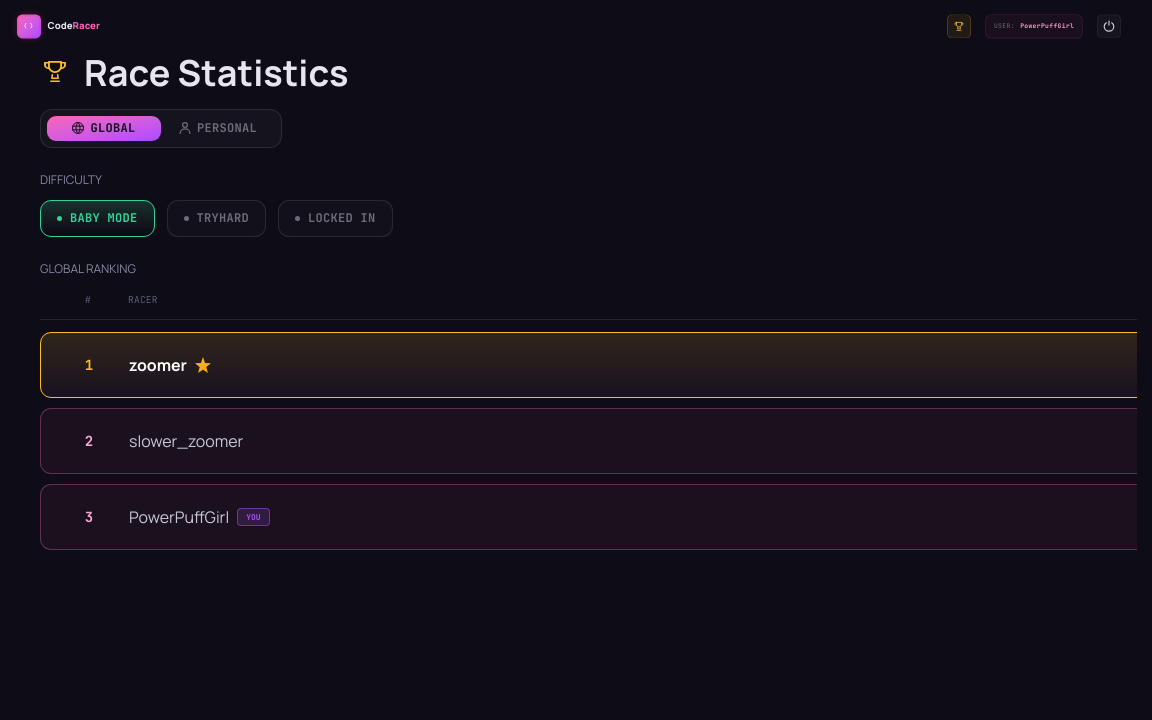
Test: StatisticsPage › shows an error with a retry that refetches history
The width and height of the screenshot is (1152, 720).
Click the tab "PERSONAL": {"x": 218, "y": 128} [161,119,275,137]
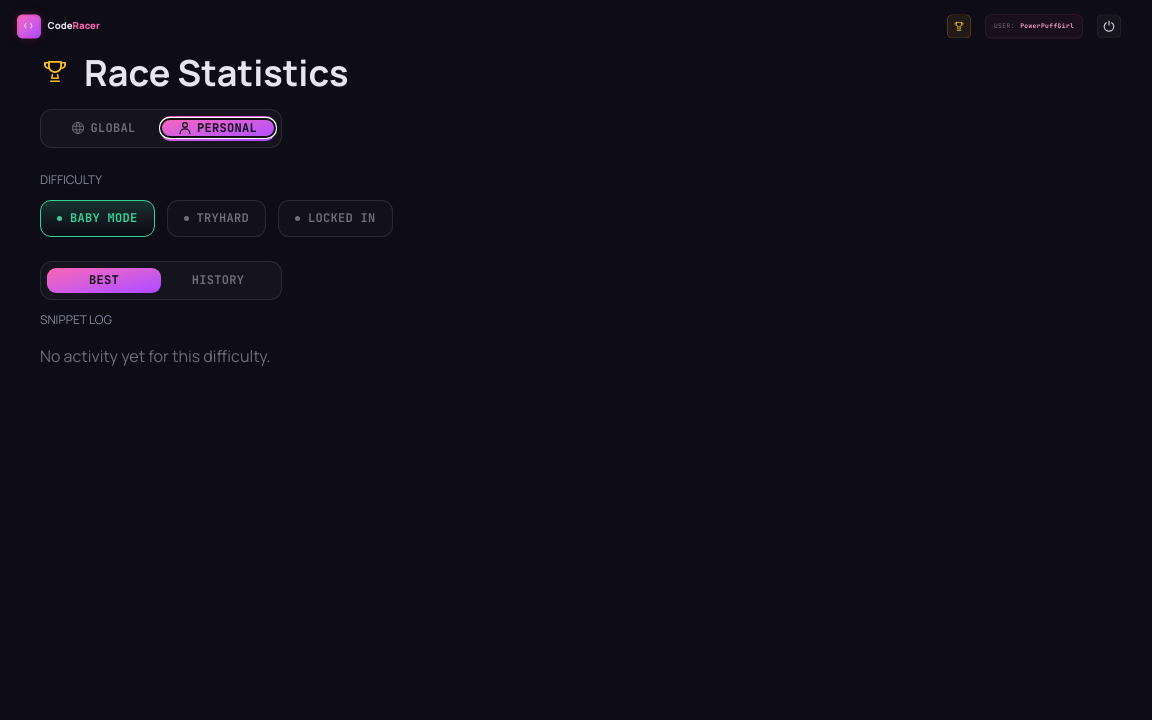
Click the tab "HISTORY": {"x": 218, "y": 280} [161,271,275,289]
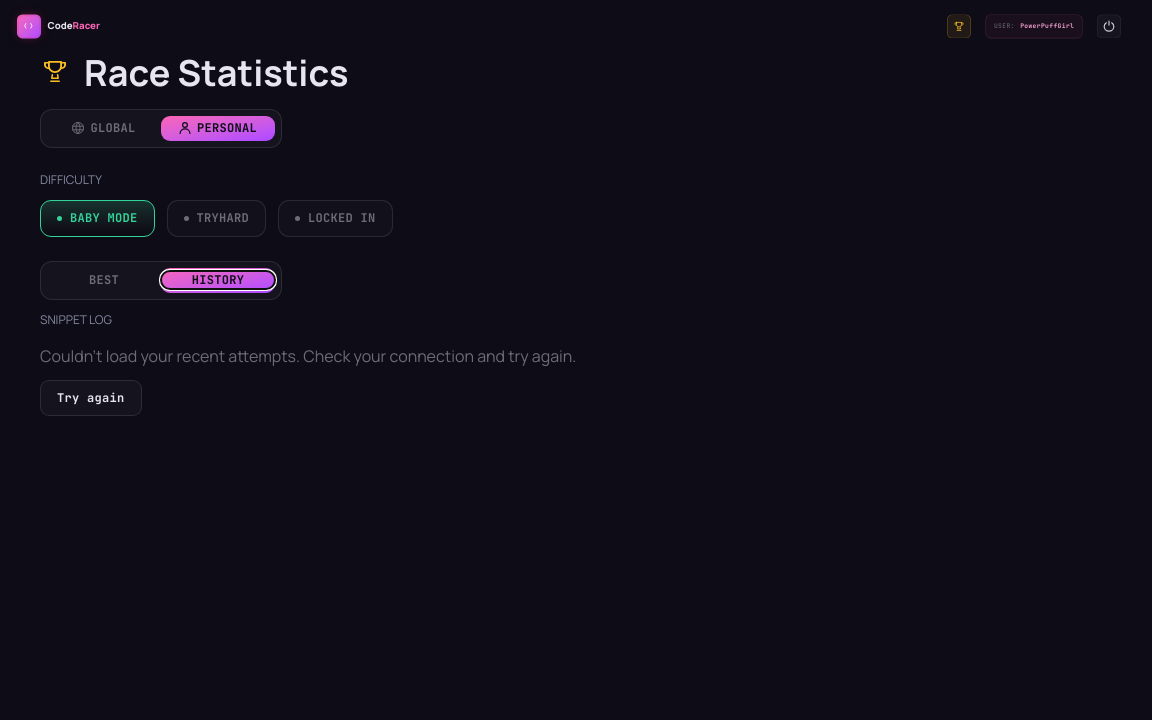
Click the button "Try again": {"x": 91, "y": 398} [40,380,142,416]
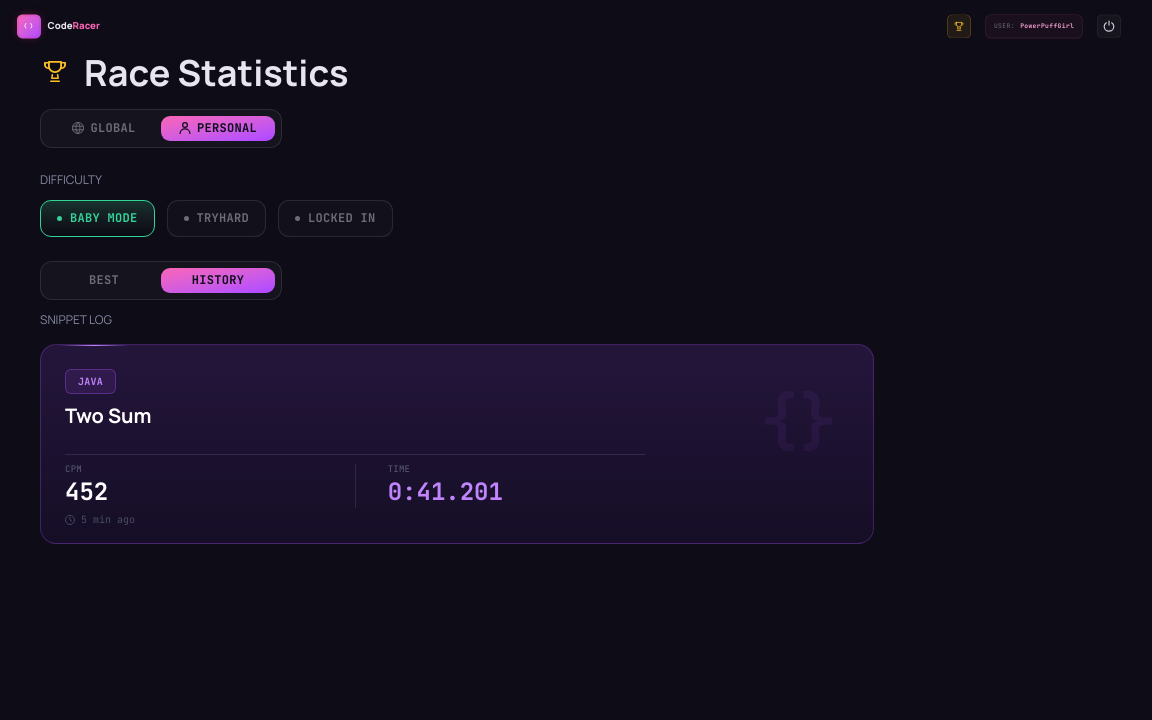
Now the text "Two Sum" is shown, box [65,402,152,429]
